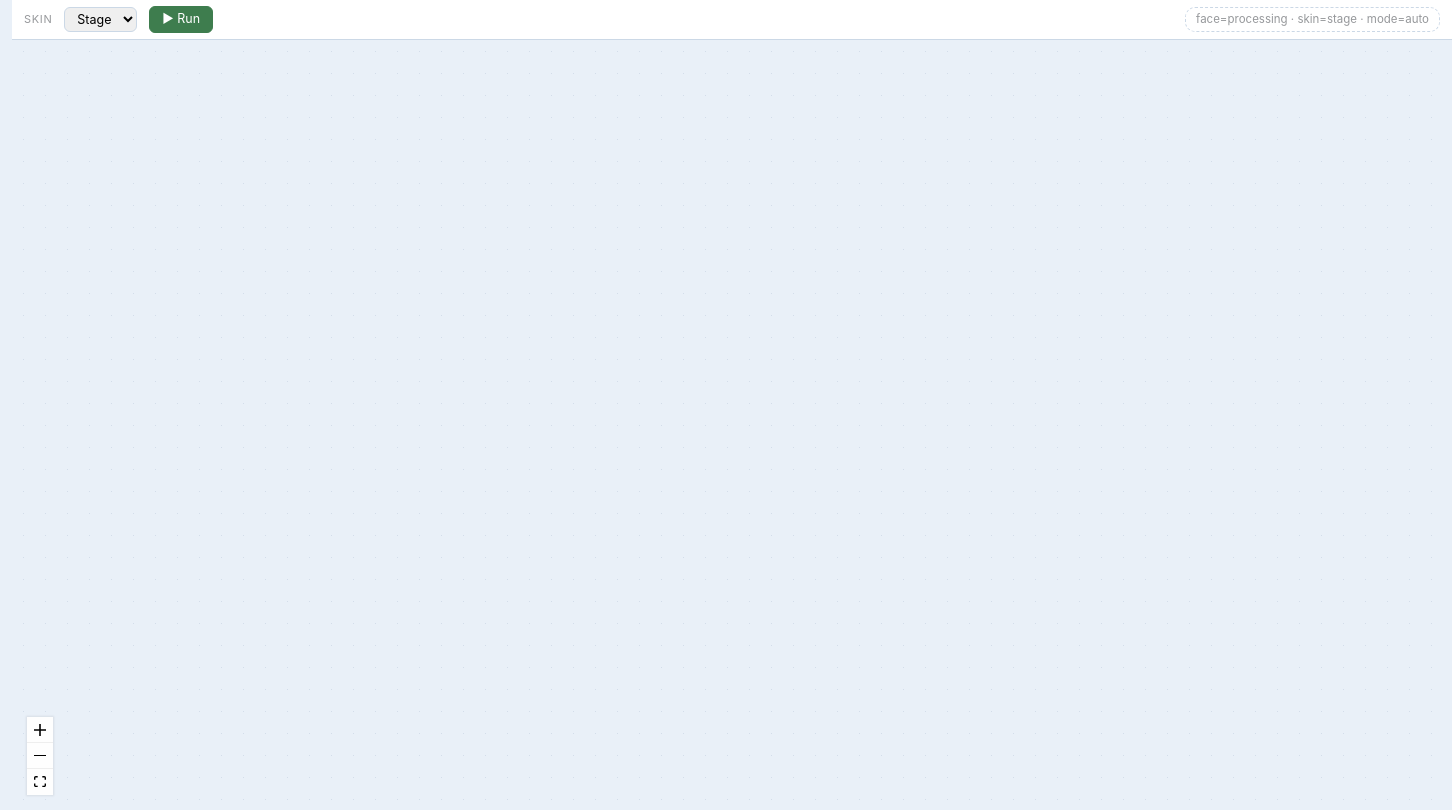
Test: run results — D-5 (drawer + chip, never in-canvas cards) › closing the drawer keeps the preview chip (result summary stays on the node)
The width and height of the screenshot is (1452, 810).
Click the button with test id "run-button": (181, 19) [149, 6, 213, 33]
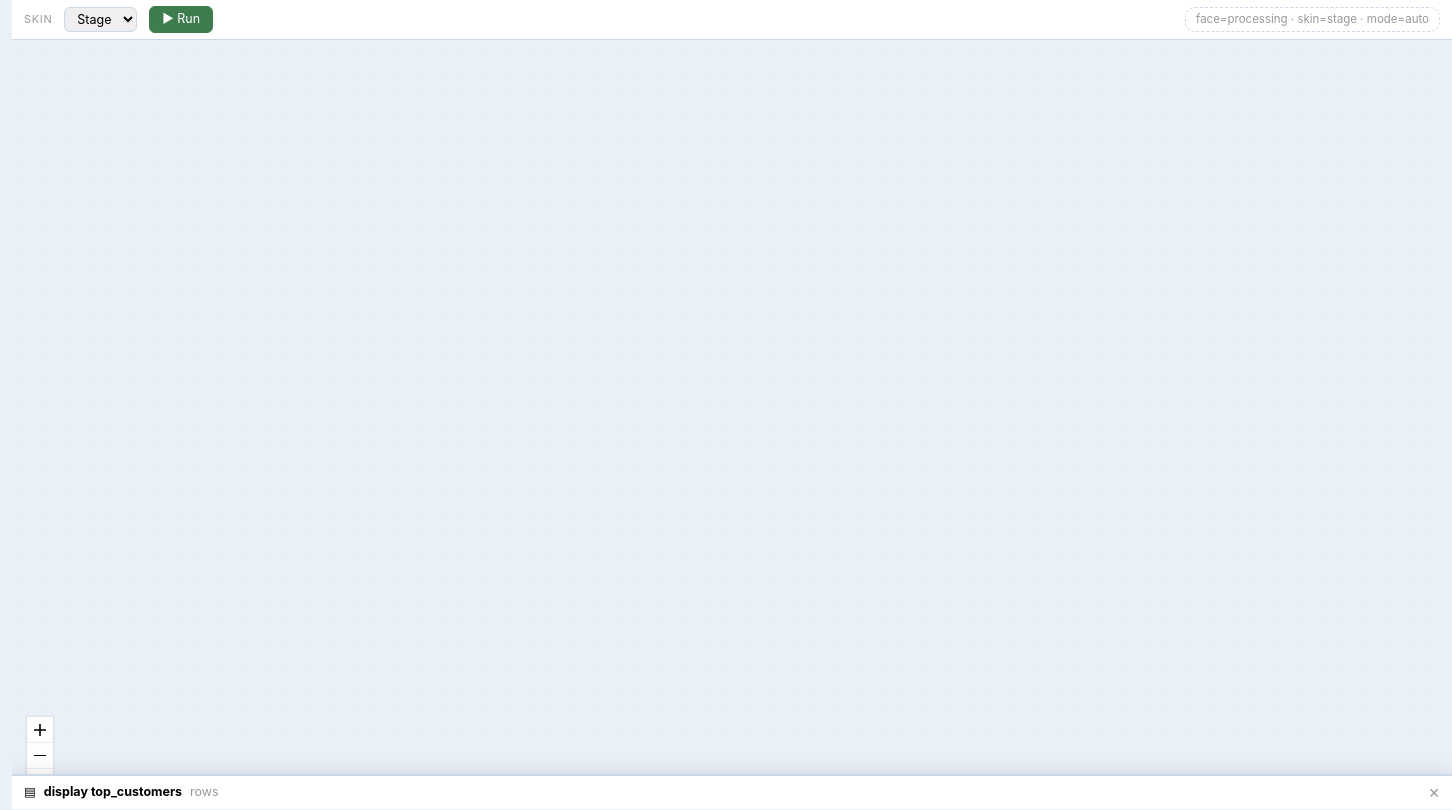
Now the element with test id "result-drawer" is shown, box [12, 774, 1451, 809]
Click the button with test id "result-close": (1434, 792) [1428, 782, 1440, 803]
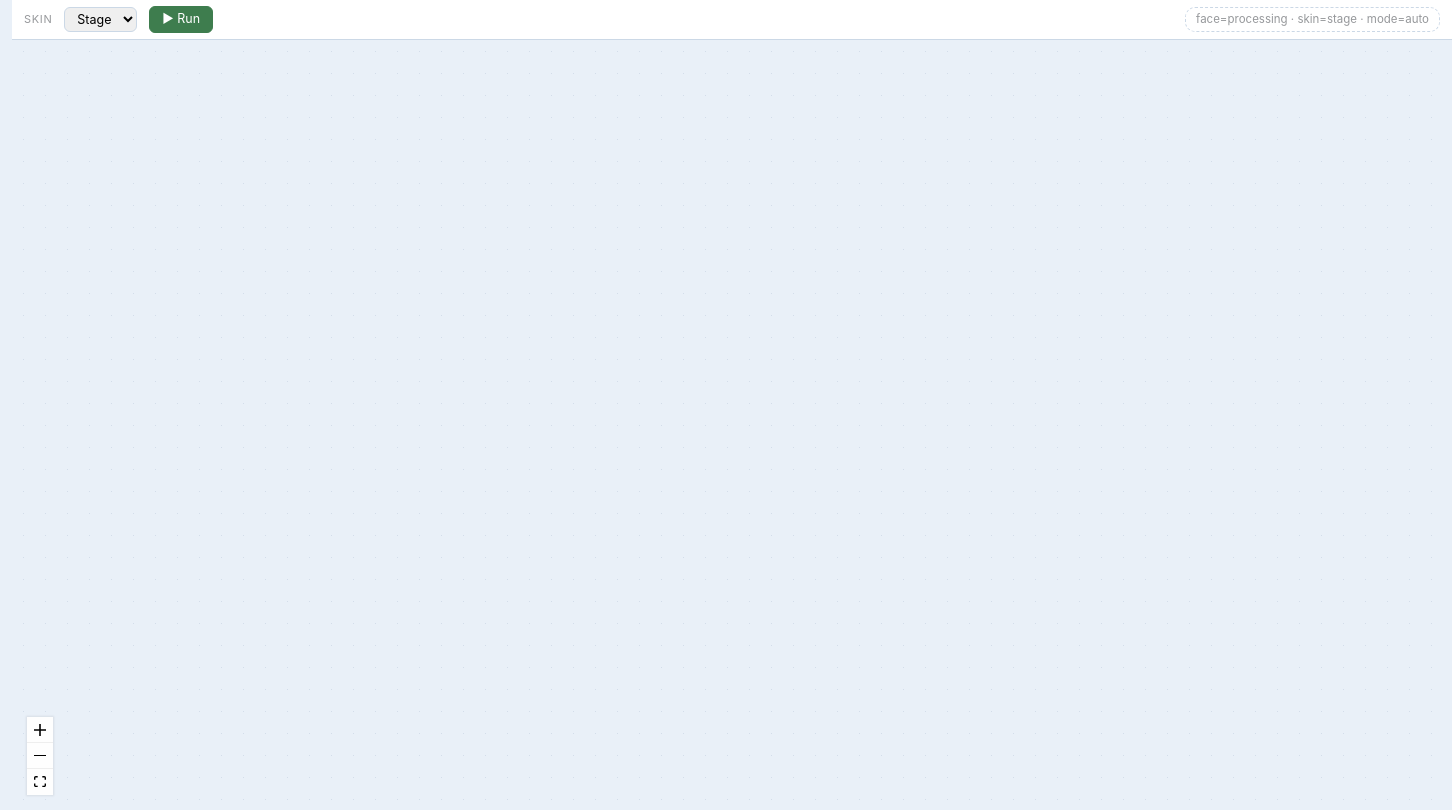
Now the element with test id "result-drawer" is gone
